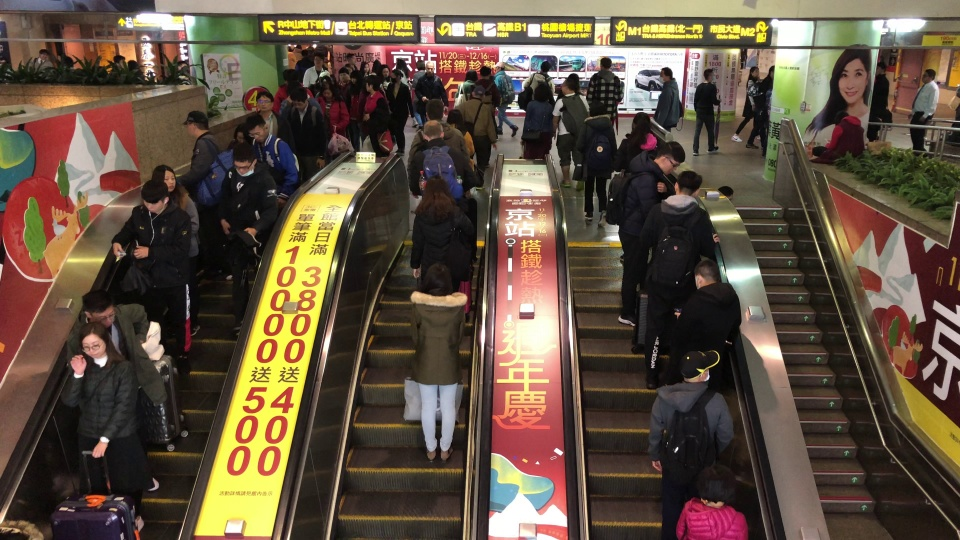person_head: (679, 340, 727, 385), (694, 454, 732, 510), (414, 176, 457, 221), (419, 257, 459, 292), (82, 291, 116, 329), (80, 326, 108, 370), (655, 138, 683, 180), (139, 179, 168, 216), (233, 142, 257, 176), (672, 170, 702, 196), (629, 110, 651, 145), (184, 113, 209, 141), (150, 163, 175, 188), (245, 114, 267, 142), (696, 257, 715, 288), (290, 84, 309, 112), (254, 90, 277, 113), (423, 118, 445, 141), (425, 97, 443, 121), (446, 109, 464, 129), (283, 66, 301, 86), (532, 84, 550, 103), (747, 64, 760, 90), (232, 122, 247, 144), (590, 101, 605, 122), (833, 108, 850, 126), (560, 76, 576, 95), (336, 64, 350, 85), (657, 66, 673, 84), (470, 83, 484, 103), (320, 82, 334, 102), (537, 58, 551, 74), (598, 56, 611, 72), (365, 77, 378, 93), (350, 70, 363, 86), (876, 65, 889, 79), (491, 59, 505, 72), (391, 66, 403, 81), (466, 67, 478, 80), (766, 63, 775, 80), (478, 65, 490, 77), (372, 59, 381, 75), (425, 61, 434, 77), (37, 48, 48, 61), (345, 51, 356, 64), (312, 55, 322, 69), (396, 57, 406, 71), (318, 70, 330, 81), (381, 64, 389, 80), (703, 67, 712, 81), (360, 59, 369, 73), (416, 59, 425, 72), (320, 74, 332, 83), (330, 72, 337, 87), (301, 49, 308, 60), (346, 63, 354, 71)
person_vbox: (649, 338, 734, 540), (646, 170, 721, 395), (112, 181, 190, 395), (69, 321, 151, 506), (79, 290, 164, 462), (216, 142, 285, 337), (618, 138, 686, 331), (408, 257, 471, 458), (145, 160, 205, 340), (676, 249, 746, 393), (410, 177, 477, 327), (408, 119, 474, 213), (679, 449, 744, 540), (413, 99, 473, 192), (245, 111, 303, 206), (579, 99, 614, 230), (457, 83, 498, 193), (279, 85, 327, 175), (176, 111, 218, 209), (585, 55, 627, 131), (743, 61, 776, 151), (553, 76, 579, 188), (254, 85, 298, 150), (387, 63, 416, 157), (729, 65, 761, 145), (520, 83, 553, 160), (616, 113, 655, 177), (909, 66, 939, 149), (693, 64, 720, 156), (824, 106, 864, 167), (653, 64, 685, 135), (317, 83, 349, 154), (494, 60, 521, 143), (273, 66, 315, 117), (415, 58, 449, 120), (362, 76, 388, 157), (477, 65, 503, 142), (868, 63, 894, 139), (446, 108, 476, 172), (395, 55, 417, 128), (349, 70, 367, 154), (452, 65, 484, 110), (523, 58, 555, 101), (411, 56, 429, 130), (301, 53, 331, 85), (568, 72, 590, 109), (337, 65, 353, 114), (316, 76, 344, 101), (29, 48, 53, 74), (296, 49, 314, 77), (954, 70, 960, 148), (127, 60, 143, 83), (343, 49, 359, 72), (379, 59, 389, 94), (370, 56, 382, 82), (359, 56, 372, 79), (61, 54, 75, 72), (113, 53, 125, 74), (314, 42, 328, 58), (288, 46, 297, 69), (294, 44, 303, 59), (305, 41, 314, 54)
